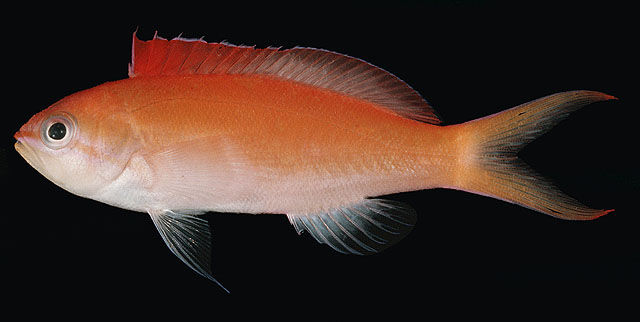fish: (12, 25, 620, 293)
